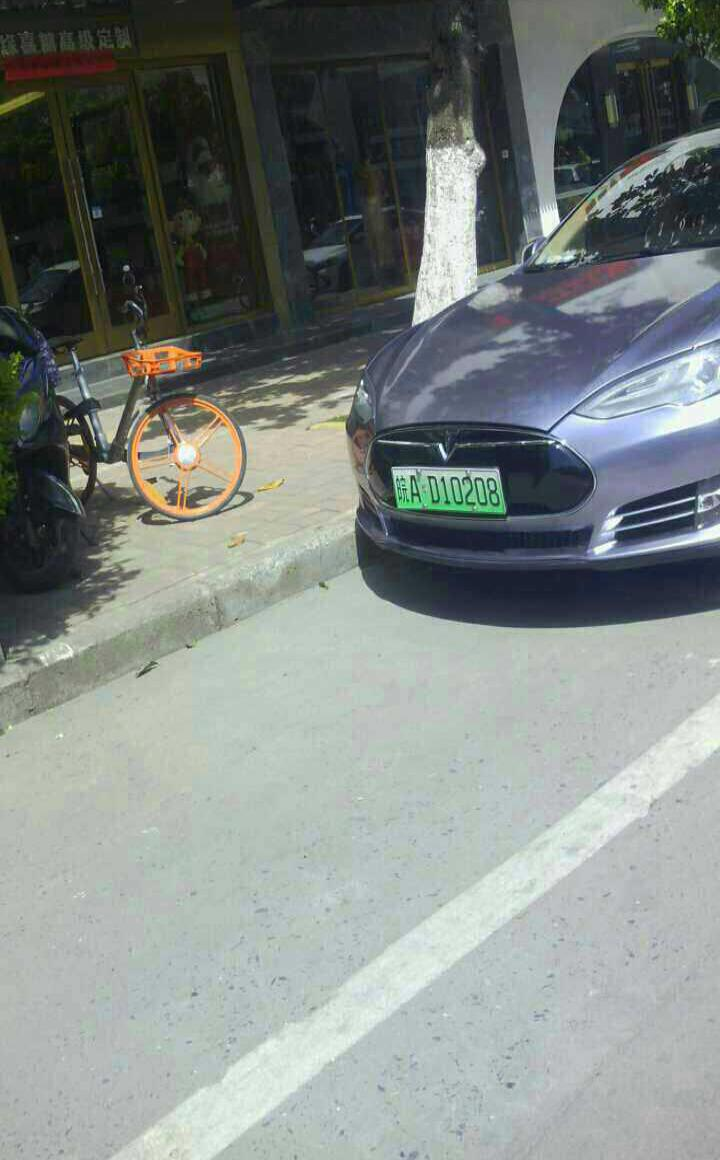car: (387, 468, 511, 518)
